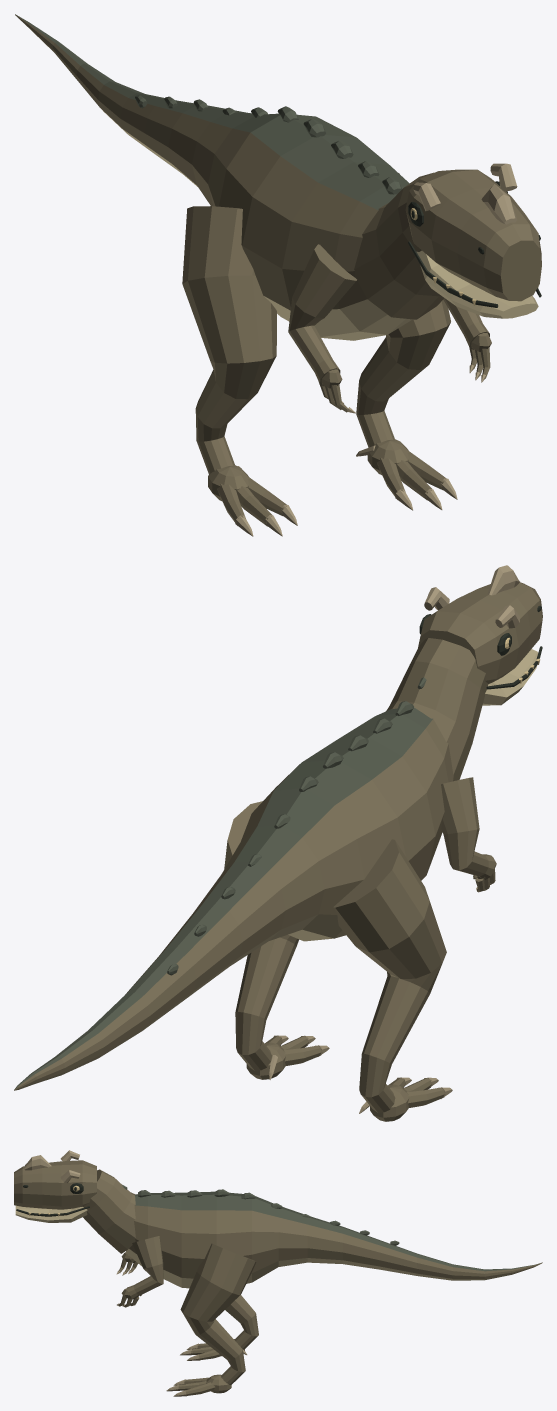
3 views of the same model, one above another, from view 1: azimuth 30°, elevation 25°; view 2: azimuth 150°, elevation 25°; view 3: azimuth 270°, elevation 25° (orthographic). The views are drawn at different scales.
Parts seen in each view (by area): view 1: dorsolateral-skin, dorsal-skin-and-ossicles, ventral-countershade, horn-and-claw-keratin, orbital-and-oral-dark; view 2: dorsolateral-skin, dorsal-skin-and-ossicles, ventral-countershade, horn-and-claw-keratin; view 3: dorsolateral-skin, dorsal-skin-and-ossicles, ventral-countershade, horn-and-claw-keratin, orbital-and-oral-dark.
Part boxes in pixels (left/top/right/bottom): dorsolateral-skin: left=15, top=14, right=541, bottom=526; dorsal-skin-and-ossicles: left=15, top=14, right=409, bottom=210; ventral-countershade: left=15, top=15, right=538, bottom=340; horn-and-claw-keratin: left=235, top=163, right=517, bottom=536; orbital-and-oral-dark: left=408, top=181, right=541, bottom=307; dorsolateral-skin: left=14, top=582, right=542, bottom=1121; dorsal-skin-and-ossicles: left=14, top=677, right=432, bottom=1089; ventral-countershade: left=15, top=649, right=538, bottom=1090; horn-and-claw-keratin: left=269, top=565, right=519, bottom=1113; dorsolateral-skin: left=14, top=1160, right=542, bottom=1395; dorsal-skin-and-ossicles: left=122, top=1184, right=541, bottom=1271; ventral-countershade: left=15, top=1205, right=541, bottom=1288; horn-and-claw-keratin: left=24, top=1150, right=247, bottom=1396; orbital-and-oral-dark: left=16, top=1183, right=89, bottom=1216.
Size of the model in its own units: 1.48 by 2.75 by 6.
